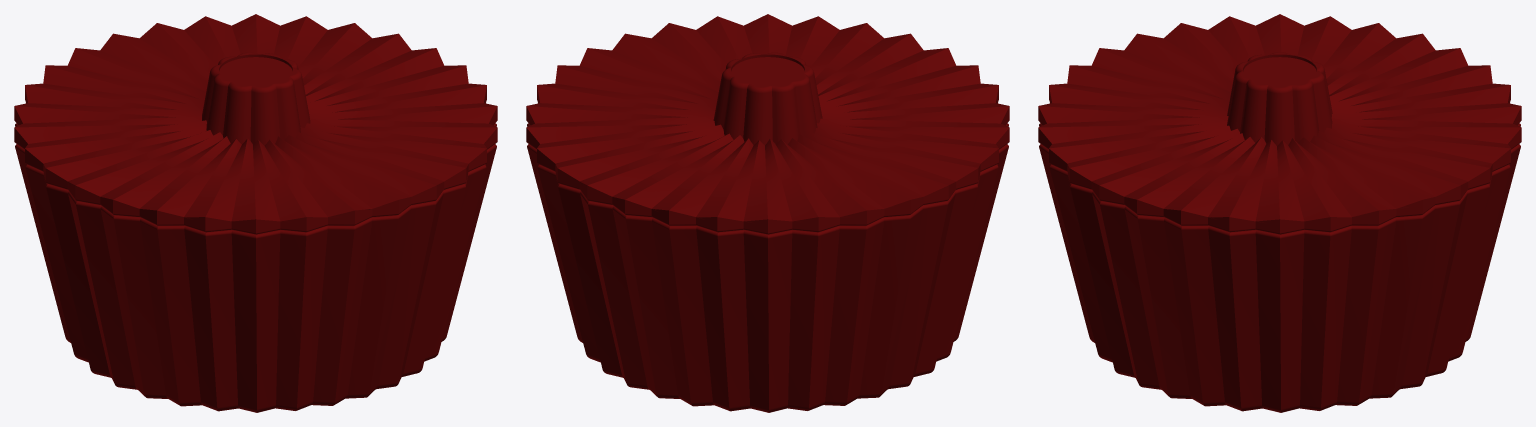
Rendered from model23sugary.glb.
The picture shows the model from 3 angles, left to right: view 1: azimuth 30°, elevation 25°; view 2: azimuth 150°, elevation 25°; view 3: azimuth 270°, elevation 25°; orthographic projection.
Bounding box in the file's own units: 0.096 × 0.0578 × 0.0955.
